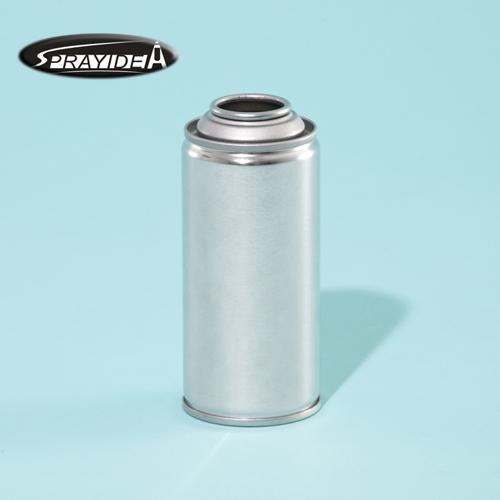metal: (154, 89, 356, 440)
